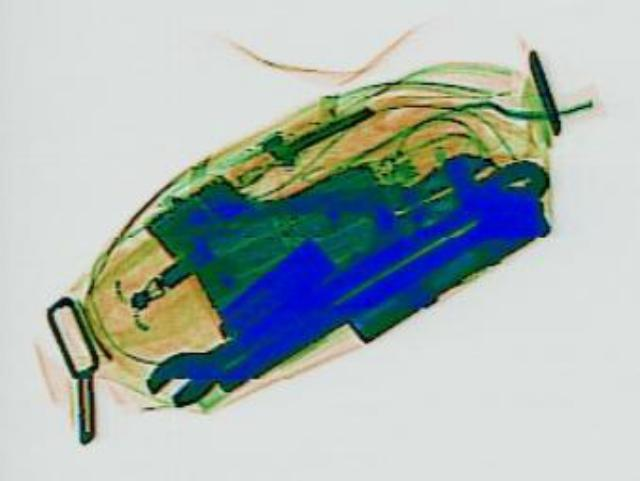Wrench: (128, 145, 560, 410)
